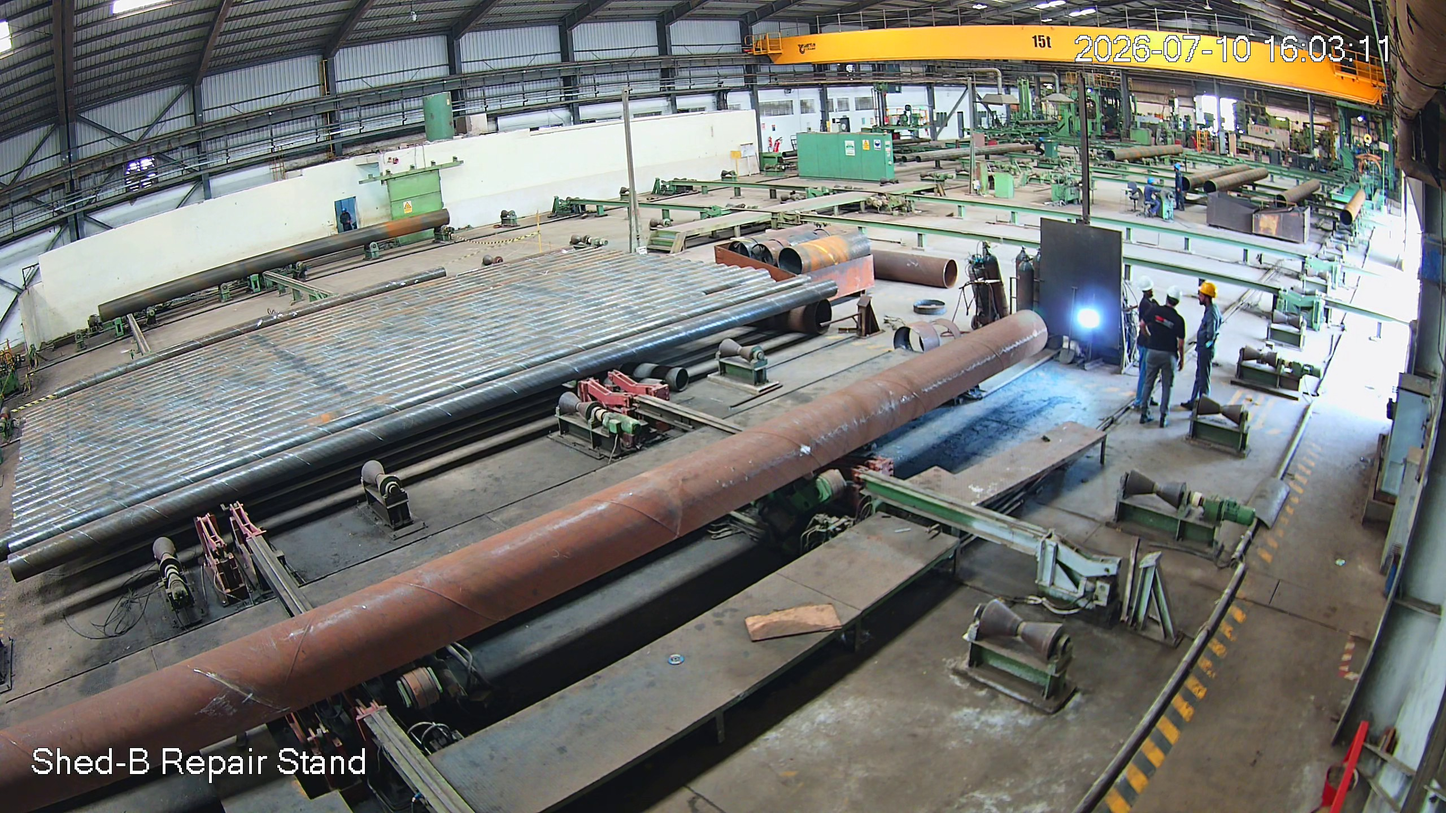Helmet: (1161, 280, 1188, 313), (1194, 278, 1218, 306), (1135, 272, 1157, 299)
Person: (1139, 285, 1185, 426), (1190, 281, 1225, 412), (1130, 274, 1159, 361)
